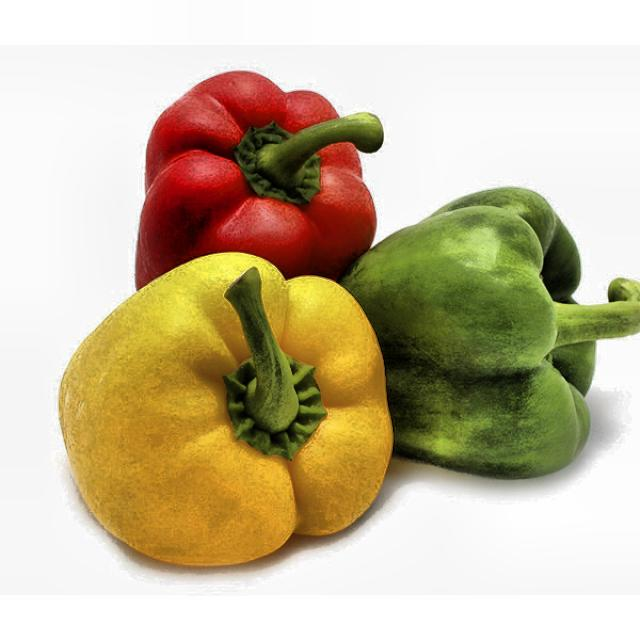capsicum: (87, 55, 634, 577)
